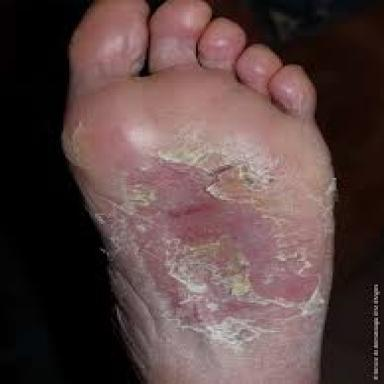eczema: (94, 127, 334, 379)
